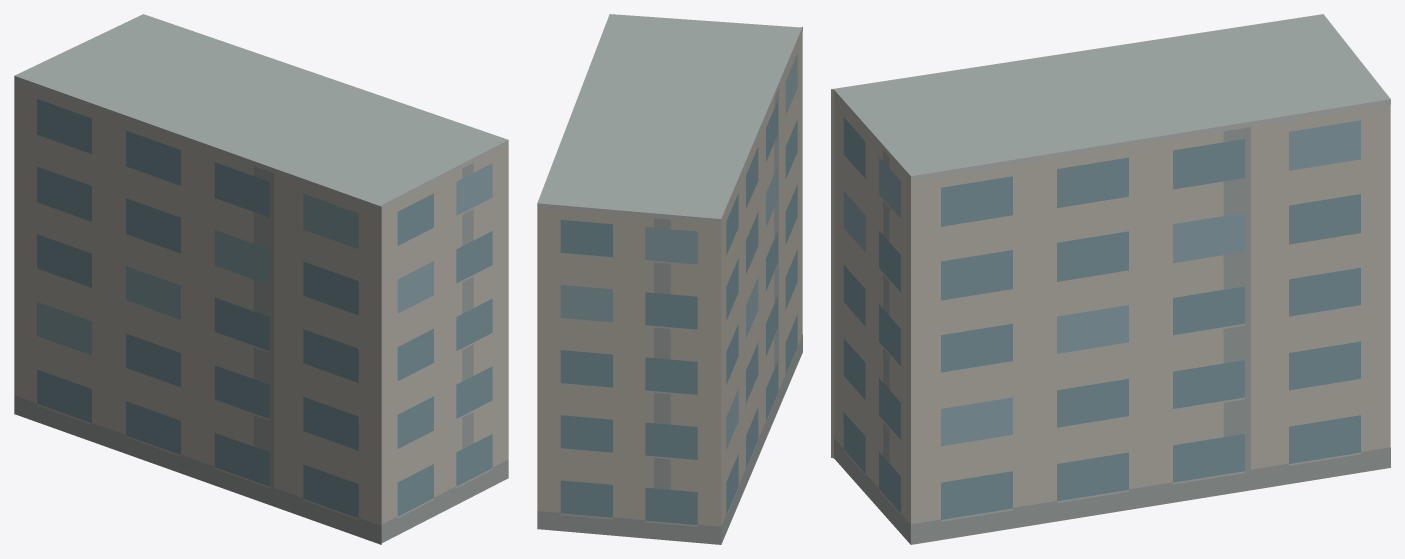
Rendered from survey-upis-32951500.glb.
The picture shows the model from 3 angles, left to right: view 1: azimuth 30°, elevation 25°; view 2: azimuth 150°, elevation 25°; view 3: azimuth 270°, elevation 25°; orthographic projection. The views are drawn at different scales.
Parts seen in each view (by area): view 1: survey-upis-32951500.tmp; view 2: survey-upis-32951500.tmp; view 3: survey-upis-32951500.tmp.
Boxes of the visible parts, box(x1,y1,x2,y2) form: survey-upis-32951500.tmp: box(14, 14, 508, 544); survey-upis-32951500.tmp: box(537, 14, 802, 544); survey-upis-32951500.tmp: box(831, 14, 1390, 544).
Size of the model in its own units: 15.68 by 16.6 by 22.85.
